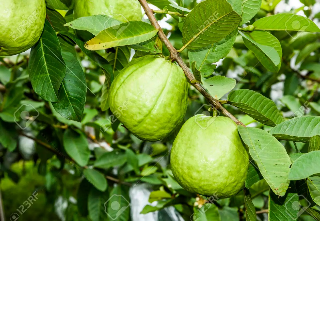oi: (169, 111, 252, 207), (108, 51, 188, 142)
